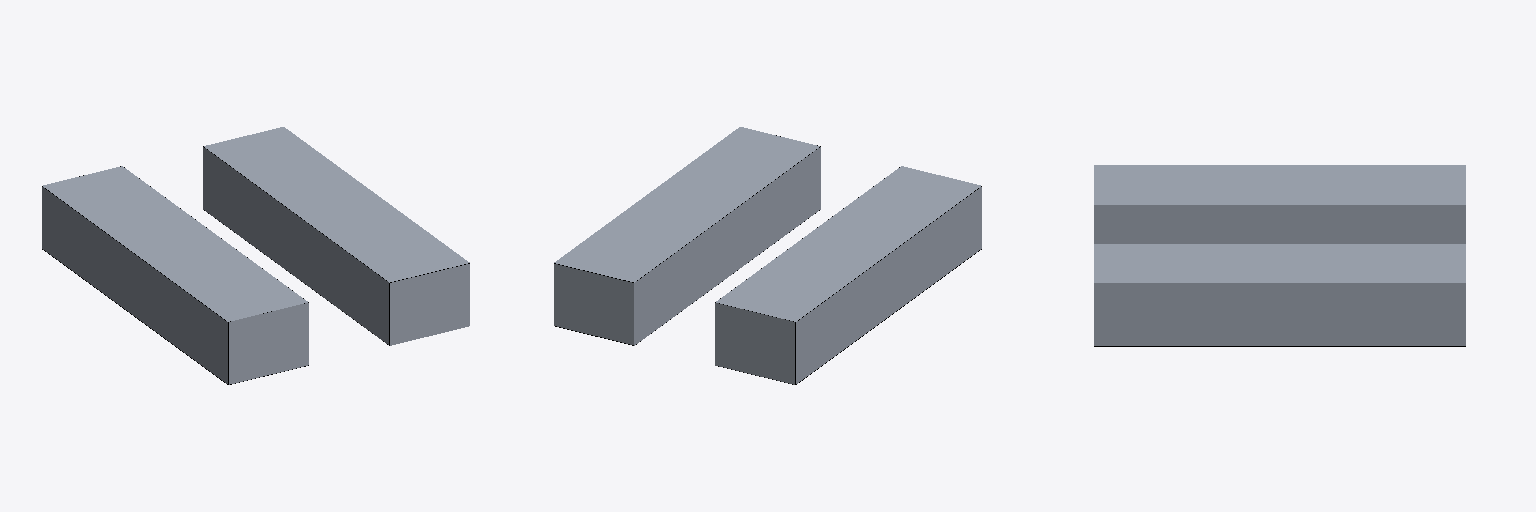
The picture shows the model from 3 angles: view 1: azimuth 30°, elevation 25°; view 2: azimuth 150°, elevation 25°; view 3: azimuth 270°, elevation 25°; orthographic projection.
Visible parts, largest first — view 1: crane_main_rail_Cube.019; view 2: crane_main_rail_Cube.019; view 3: crane_main_rail_Cube.019.
Boxes of the visible parts, box(x1,y1,x2,y2) form: crane_main_rail_Cube.019: box(42, 127, 469, 384); crane_main_rail_Cube.019: box(554, 127, 981, 384); crane_main_rail_Cube.019: box(1094, 165, 1465, 346).
Bounding box in the file's own units: 1.5 × 0.375 × 2.
Materials: 1 (1 with a texture image).